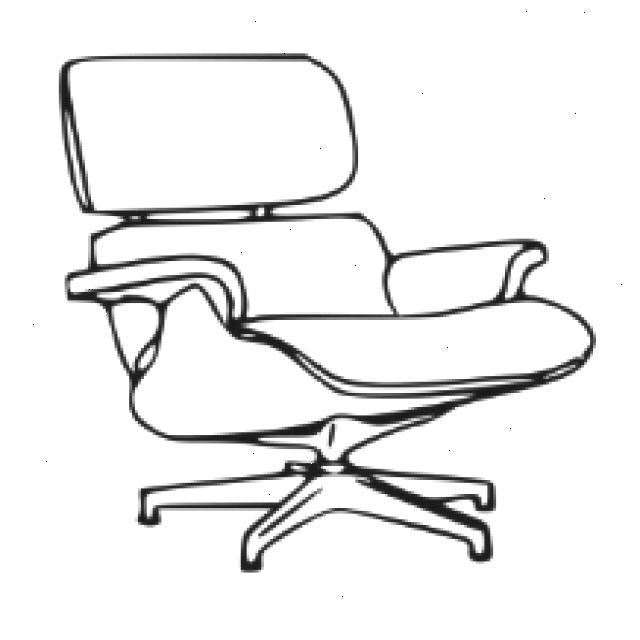Backrest: (89, 214, 399, 316)
Eames_base: (132, 459, 510, 582)
Eames_lounge: (382, 239, 552, 316), (65, 253, 248, 324)
Headrest: (57, 51, 361, 216)
Seat: (127, 284, 596, 440)
